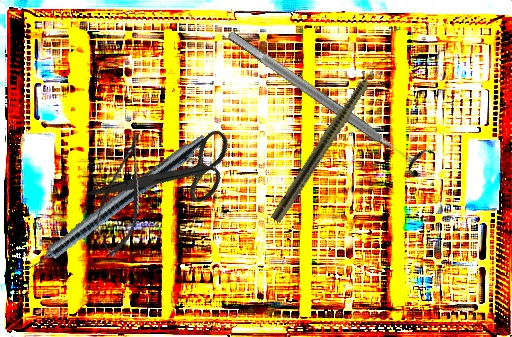Fixation Ring: (219, 18, 436, 182)
Handpiece: (12, 128, 210, 285), (269, 50, 391, 225)
Iris Scissors: (85, 92, 249, 258)
Micro Scissor: (87, 127, 157, 262)
